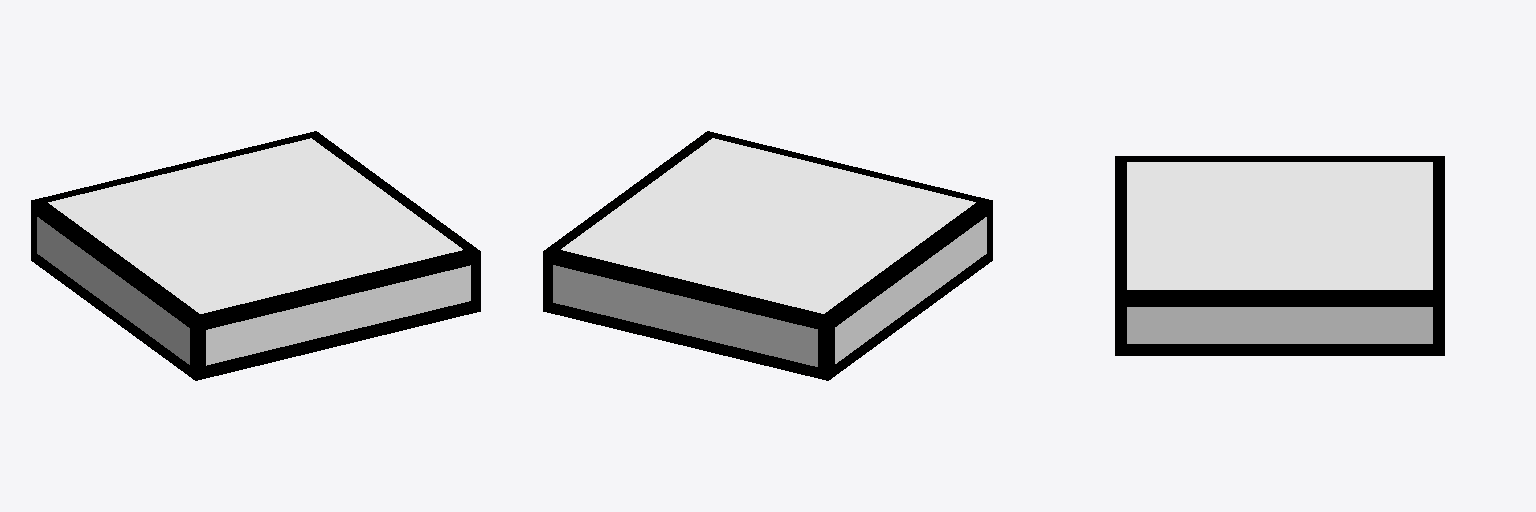
3 renders of one model, left to right at view 1: azimuth 30°, elevation 25°; view 2: azimuth 150°, elevation 25°; view 3: azimuth 270°, elevation 25°, orthographic.
Parts seen in each view (by area): view 1: 立方体; view 2: 立方体; view 3: 立方体.
Boxes of the visible parts, box(x1,y1,x2,y2) form: 立方体: box(31, 131, 480, 380); 立方体: box(543, 131, 992, 380); 立方体: box(1115, 156, 1444, 355).
Bounding box in the file's own units: 1 × 0.2 × 1.
Materials: 1 (1 with a texture image).